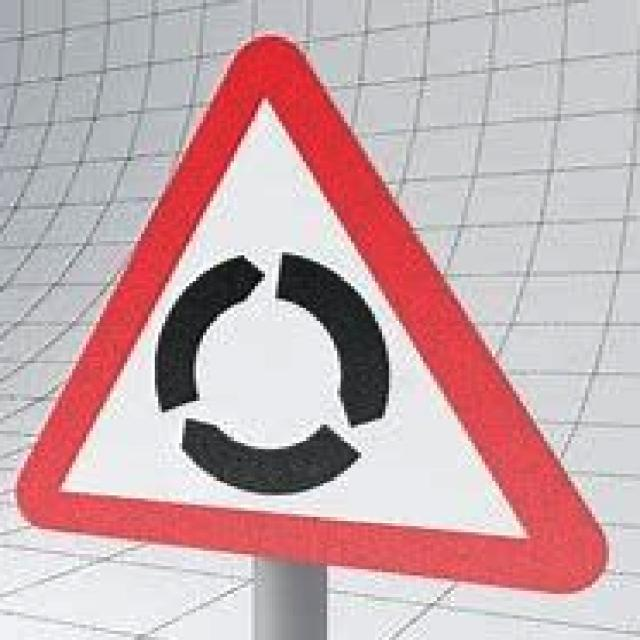ROUNDABOUT: (17, 30, 614, 604)
